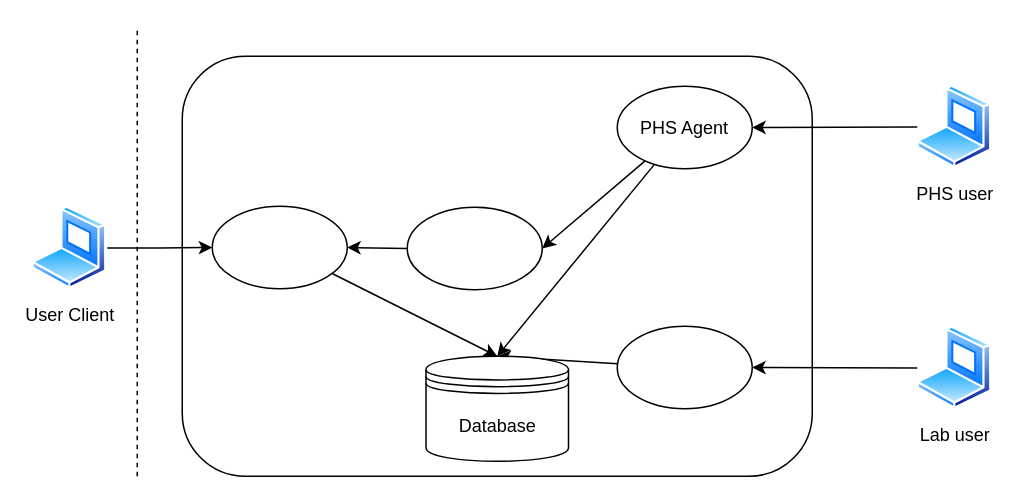
The diagram is 1019 pixels wide and 504 high, and some of its shapes have lost their labels. The shapes that lost their labels are listed below. From the top down, each one's centre as x and y in pixels, then its label:
[279,247]: User Agent
[474,248]: Alert Agent
[684,367]: Lab Agent
